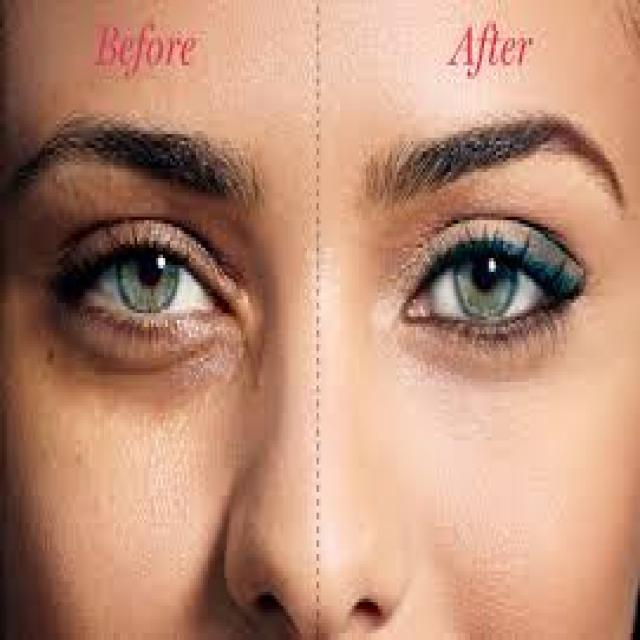moderate: (23, 303, 252, 402)
no_dark_circle: (408, 327, 602, 406)
